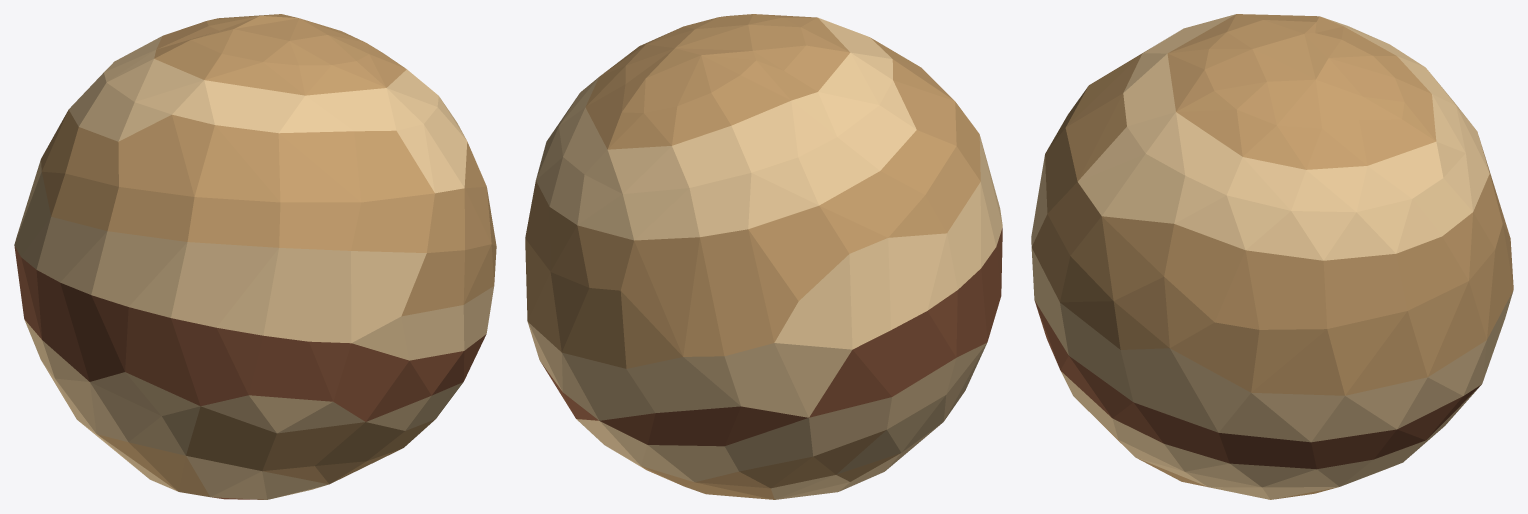
File: jupiter.fbx
3 renders of one model, left to right at view 1: azimuth 30°, elevation 25°; view 2: azimuth 150°, elevation 25°; view 3: azimuth 270°, elevation 25°, orthographic.
Visible parts, largest first — view 1: Sphere; view 2: Sphere; view 3: Sphere.
Part boxes in pixels (left/top/right/bottom): Sphere: left=14, top=14, right=496, bottom=499; Sphere: left=525, top=14, right=1002, bottom=499; Sphere: left=1031, top=14, right=1513, bottom=499.
Size of the model in its own units: 686 by 689 by 691.
